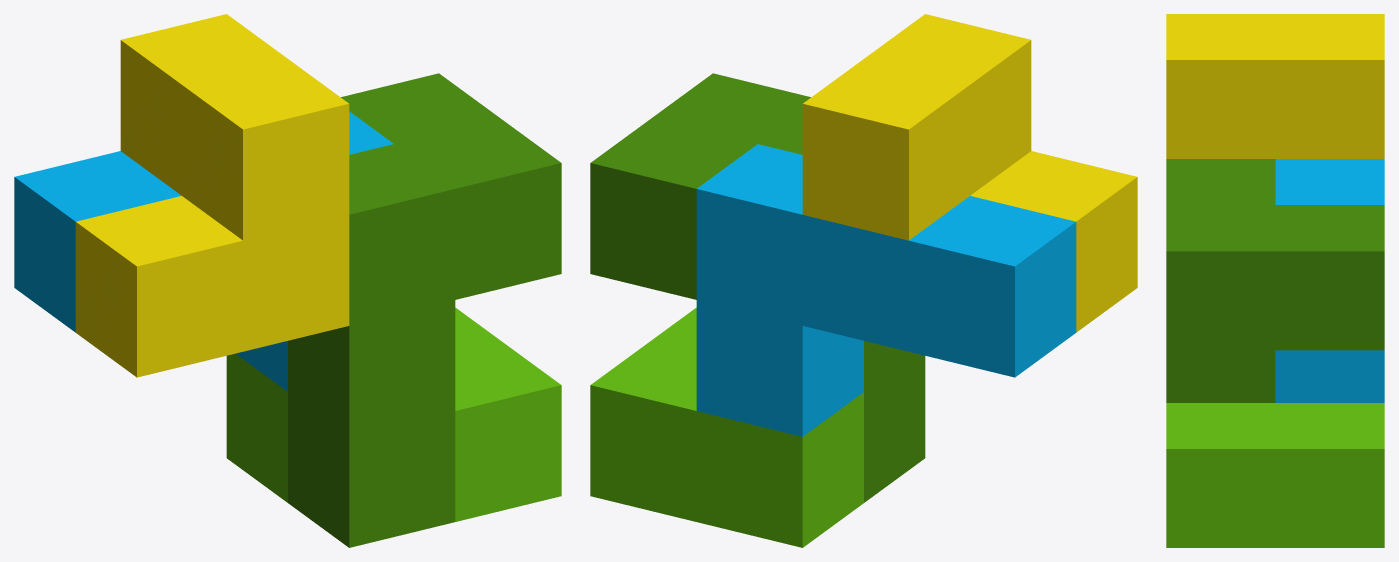
3 renders of one model, left to right at view 1: azimuth 30°, elevation 25°; view 2: azimuth 150°, elevation 25°; view 3: azimuth 270°, elevation 25°, orthographic. The views are drawn at different scales.
Parts seen in each view (by area): view 1: mergedBlocks(Clone); view 2: mergedBlocks(Clone); view 3: mergedBlocks(Clone).
Part boxes in pixels (bbox=[...]): mergedBlocks(Clone): bbox=[14, 14, 561, 547]; mergedBlocks(Clone): bbox=[590, 14, 1137, 547]; mergedBlocks(Clone): bbox=[1166, 14, 1384, 547].
Bounding box in the file's own units: 4 × 4 × 2.
4 materials, 4 textured.
